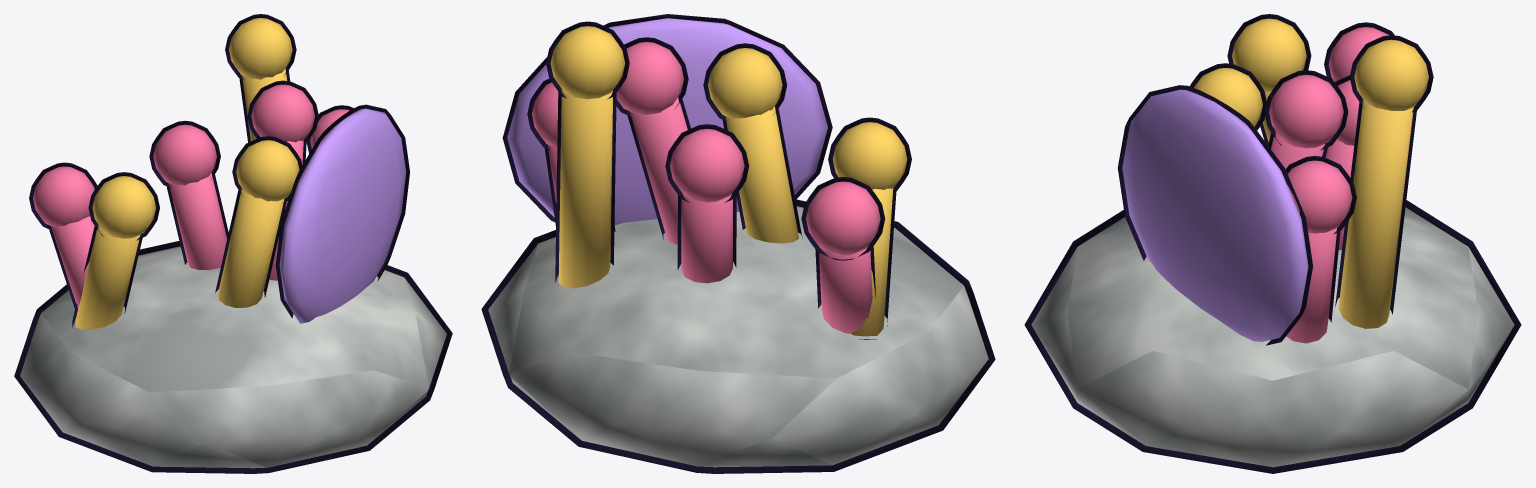
Rendered from coral0.glb.
The picture shows the model from 3 angles, left to right: view 1: azimuth 30°, elevation 25°; view 2: azimuth 150°, elevation 25°; view 3: azimuth 270°, elevation 25°; orthographic projection. The views are drawn at different scales.
Parts seen in each view (by area): view 1: coral0; view 2: coral0; view 3: coral0.
Boxes of the visible parts, bbox=[...] form: coral0: bbox=[14, 14, 452, 473]; coral0: bbox=[481, 14, 995, 473]; coral0: bbox=[1024, 14, 1521, 473].
Bounding box in the file's own units: 0.8787 × 0.8257 × 0.864.
5 materials, 1 textured.
